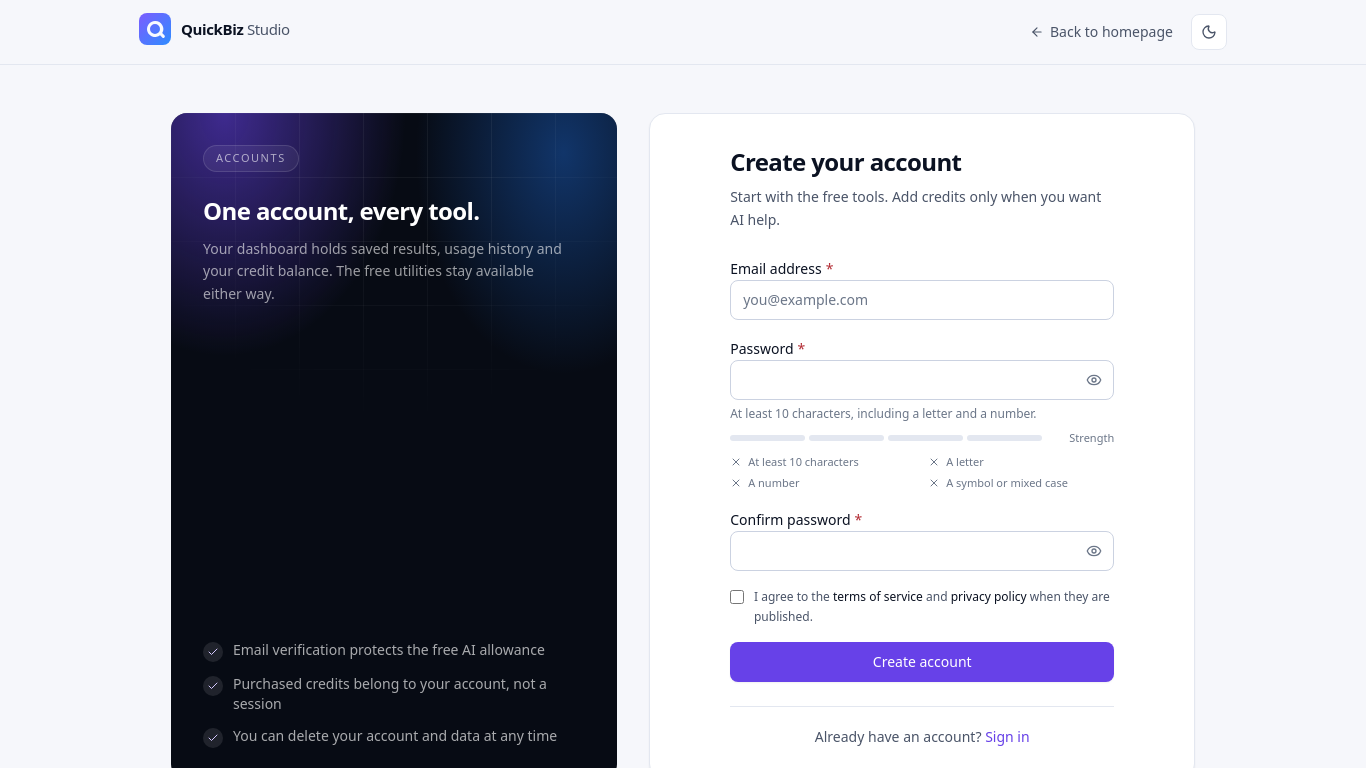
Test: RegisterPage › blocks submission with accessible field errors
This screenshot has width=1366, height=768.
Type "not-an-email" into the field labelled "Email address*" at {"x": 922, "y": 300}, box x1=730 y1=280 x2=1114 y2=320
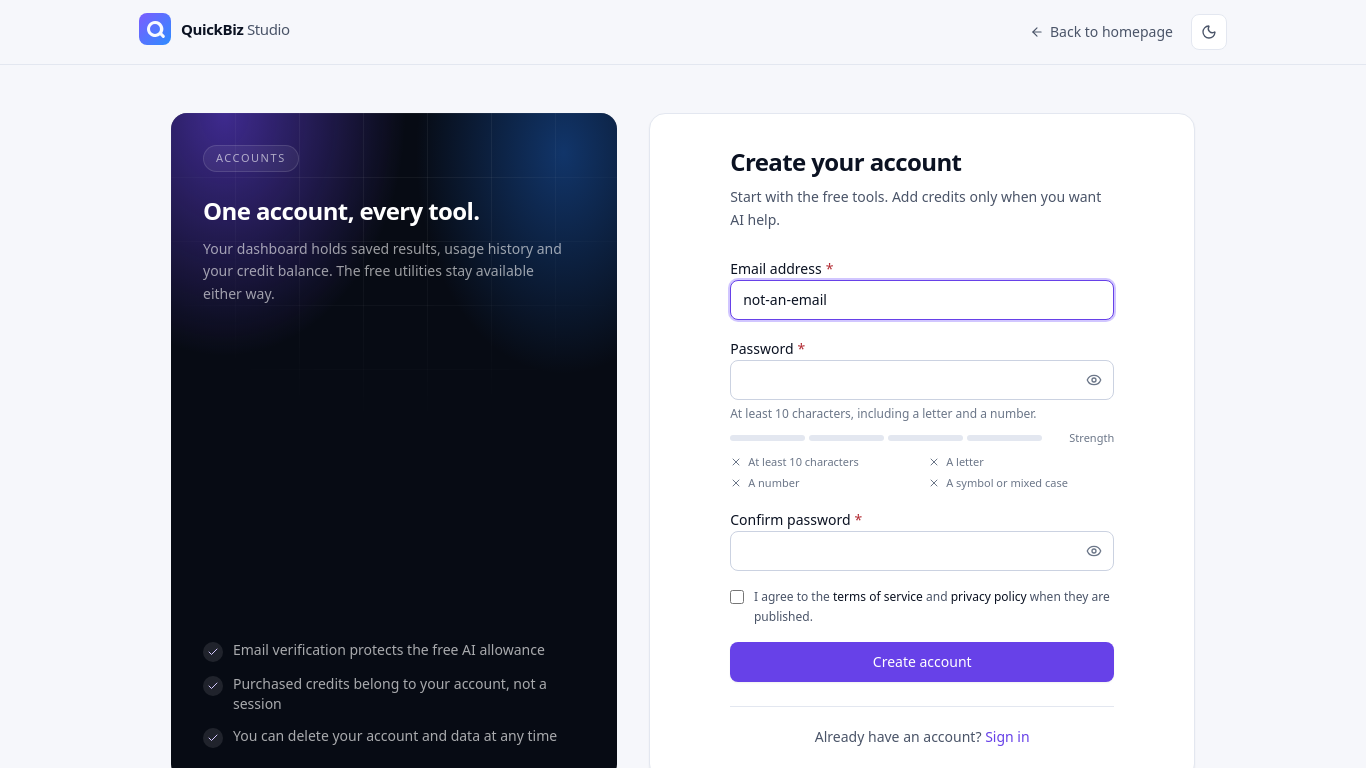
Type "short1" into the password field labelled "Password*" at {"x": 922, "y": 380}, box x1=730 y1=360 x2=1114 y2=400
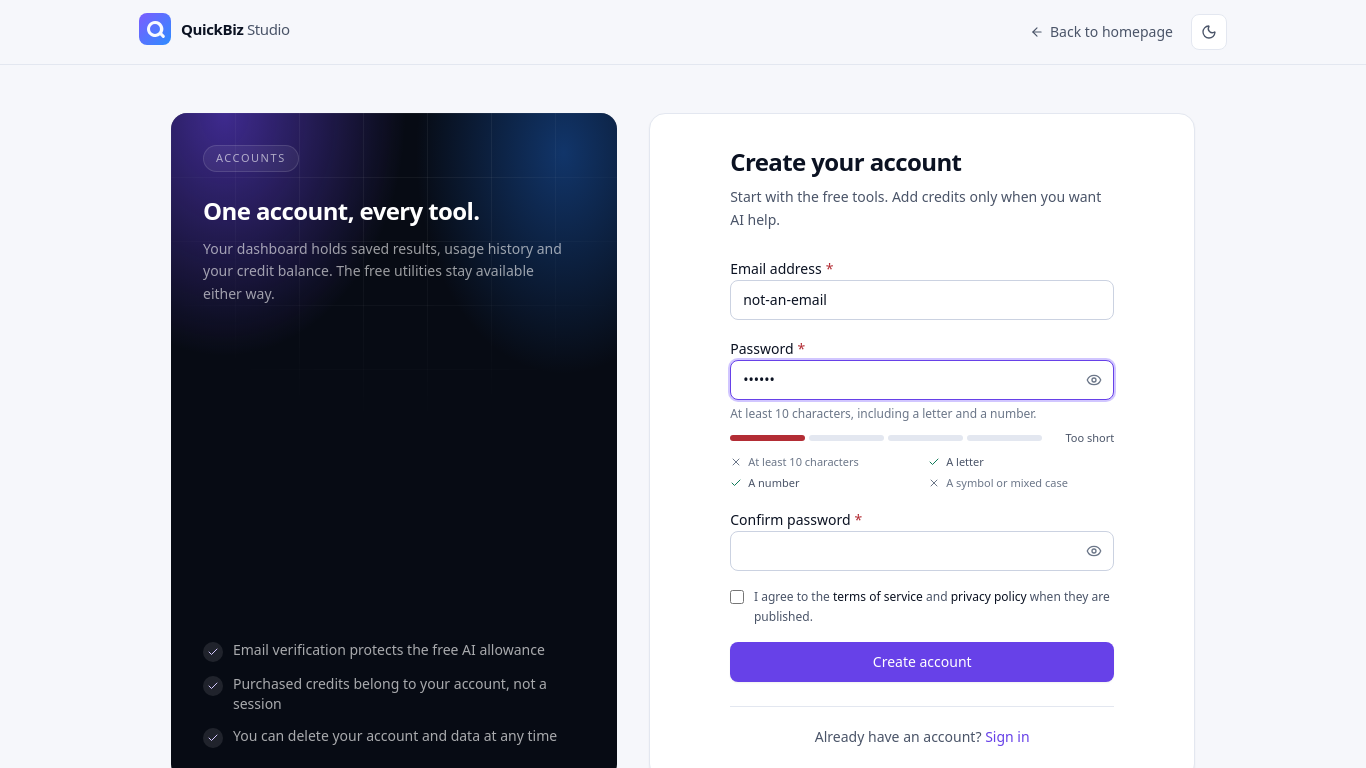
Type "short1" into the password field labelled "Confirm password*" at {"x": 922, "y": 551}, box x1=730 y1=531 x2=1114 y2=571
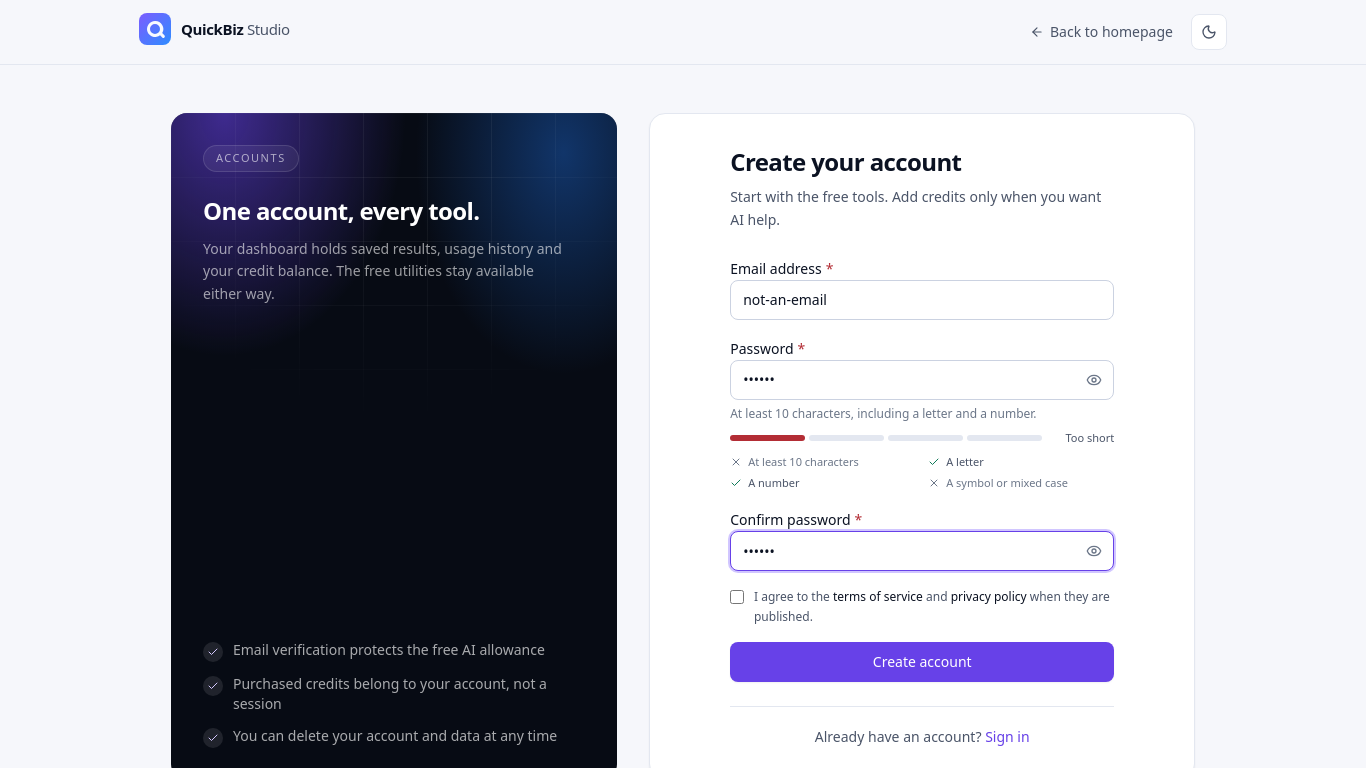
Click the button "Create account" at {"x": 922, "y": 662}, box x1=730 y1=642 x2=1114 y2=682
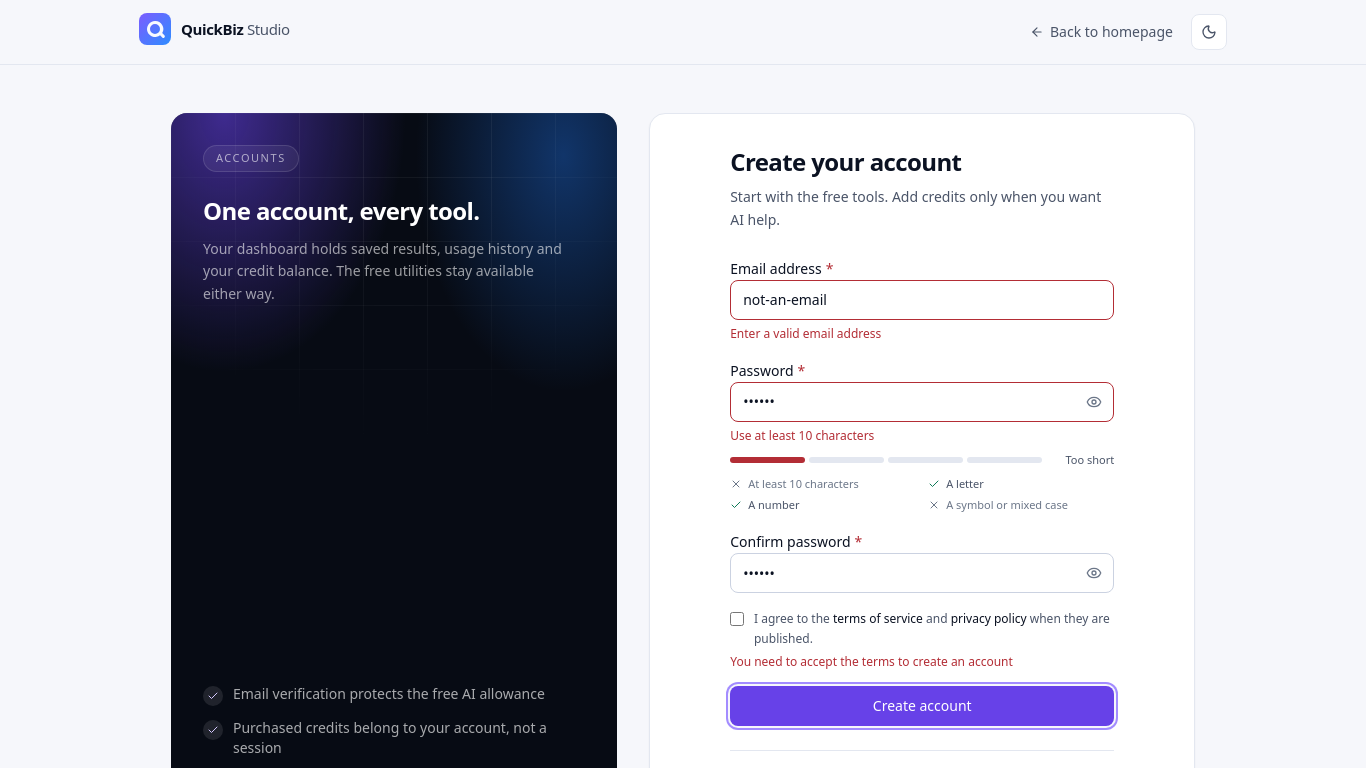
Now the text "Enter a valid email address" is shown, box x1=730 y1=324 x2=881 y2=342
Now the text "Use at least 10 characters" is shown, box x1=730 y1=426 x2=874 y2=444
Now the text "You need to accept the terms to create an account" is shown, box x1=730 y1=653 x2=1013 y2=670
